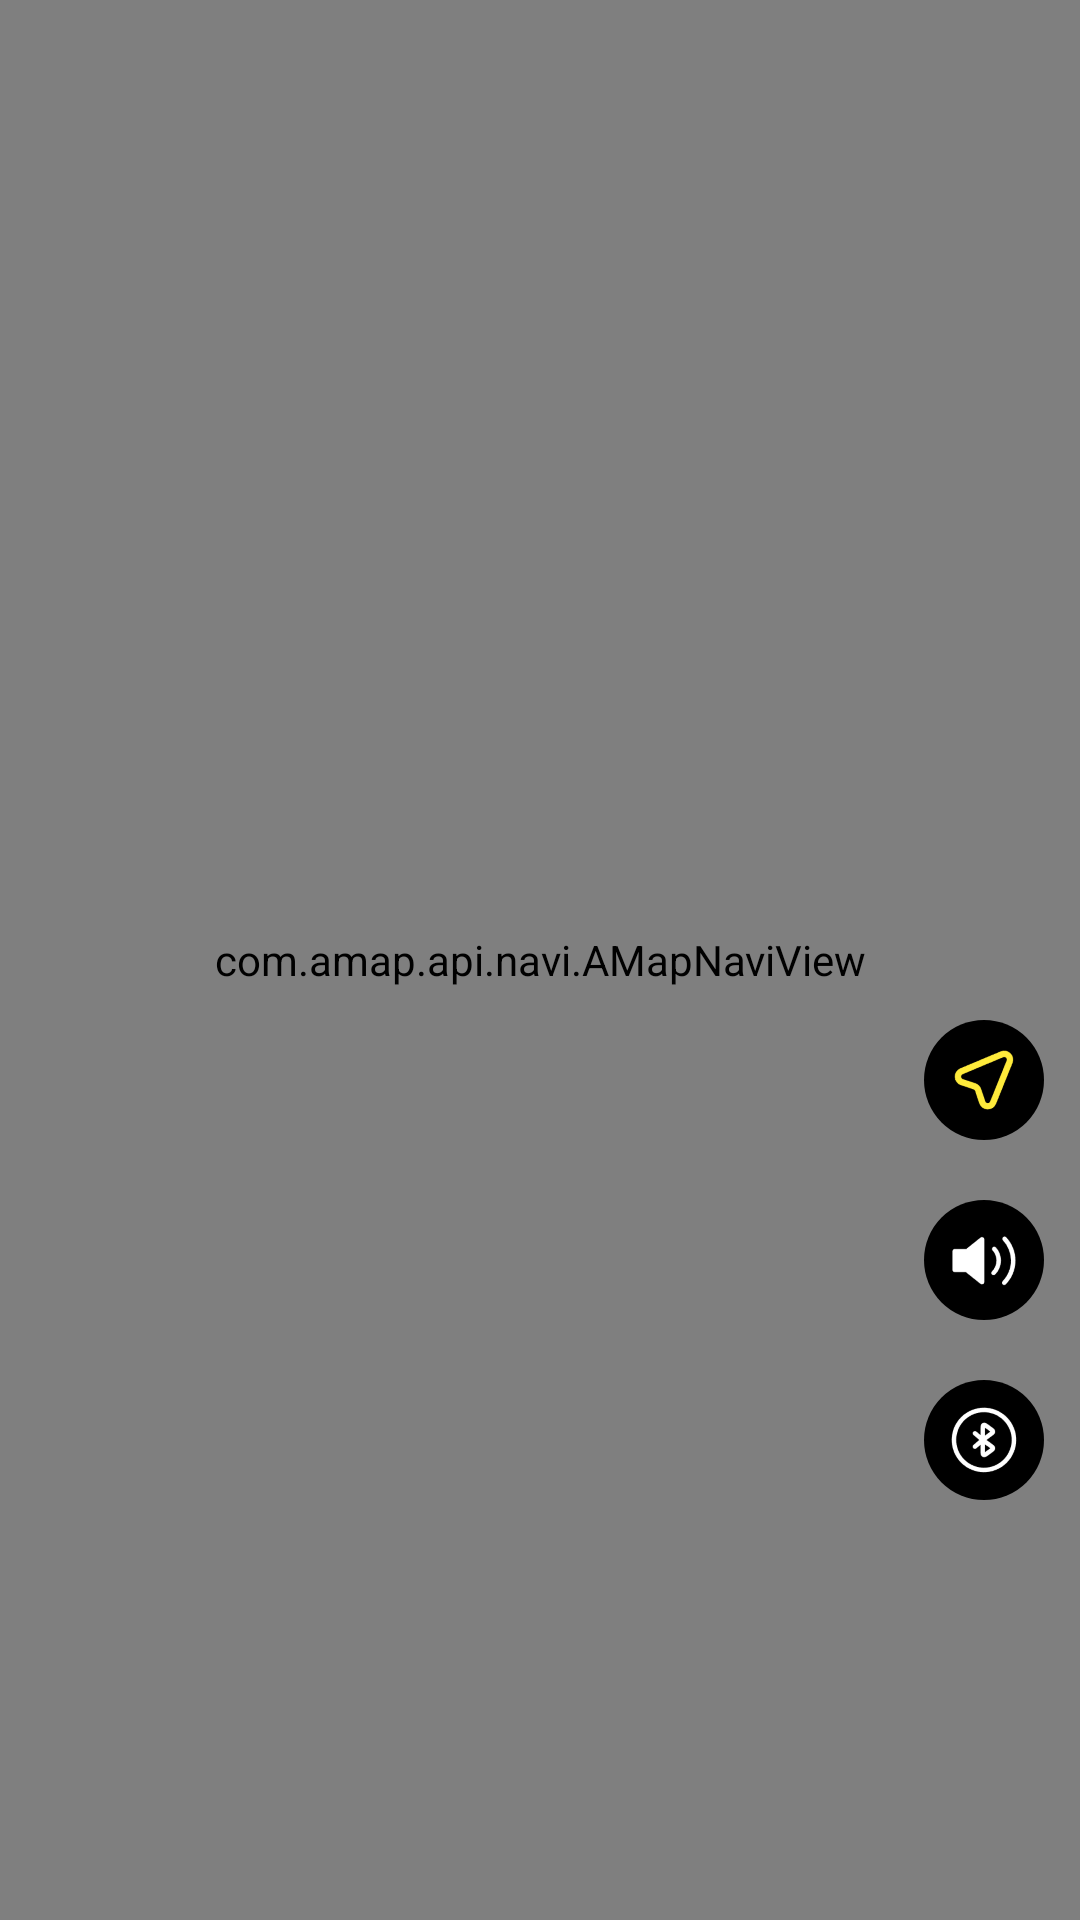

Icon bounding boxes for this 1080x1920 phone screenshot, format BBox(x1, y1, x2, y2):
jiantou: BBox(924, 1020, 1044, 1140)
yuyinbobao: BBox(924, 1200, 1044, 1320)
